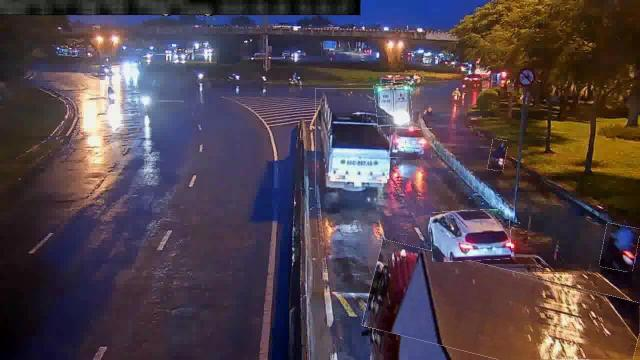Bike: (601, 224, 639, 272), (489, 139, 507, 171)
Car: (431, 210, 511, 262), (390, 127, 432, 158)
Truck: (364, 254, 640, 360), (316, 88, 386, 197), (376, 82, 412, 130)
